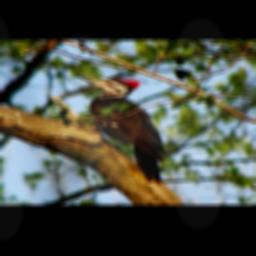Woodpecker: (68, 72, 172, 185)
